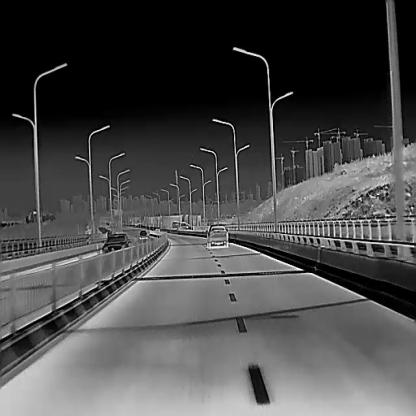car: (101, 232, 130, 252), (206, 224, 228, 248), (178, 219, 190, 228), (139, 228, 147, 238)
